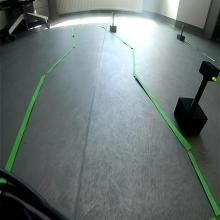green: (199, 60, 219, 82)
